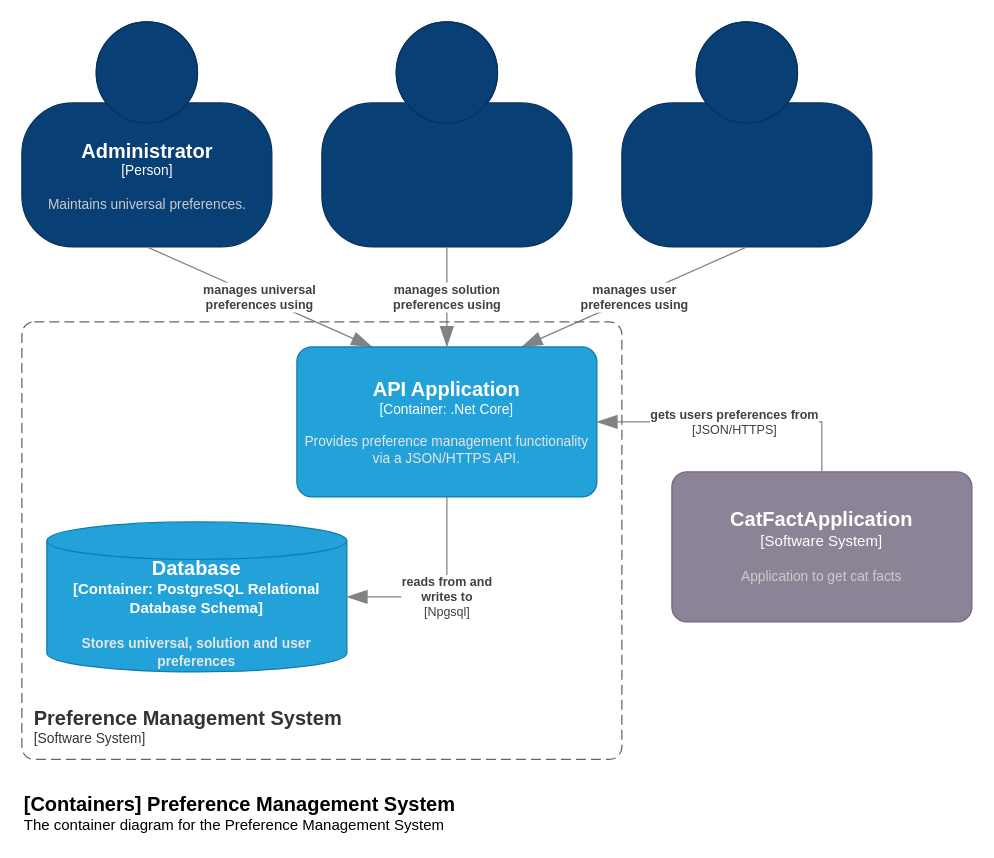
Some shapes in this 994 by 858 pixel diagram are drawn without their labels. The shapes that lost their labels are listed below. From the top down, each one's centre as x and y in pixels, then its label:
At point 446,134: "Solution Manager [Person] Maintains and assigns solution preferences.".
At point 746,134: "Consumer [Person] Updates user preference values.".
